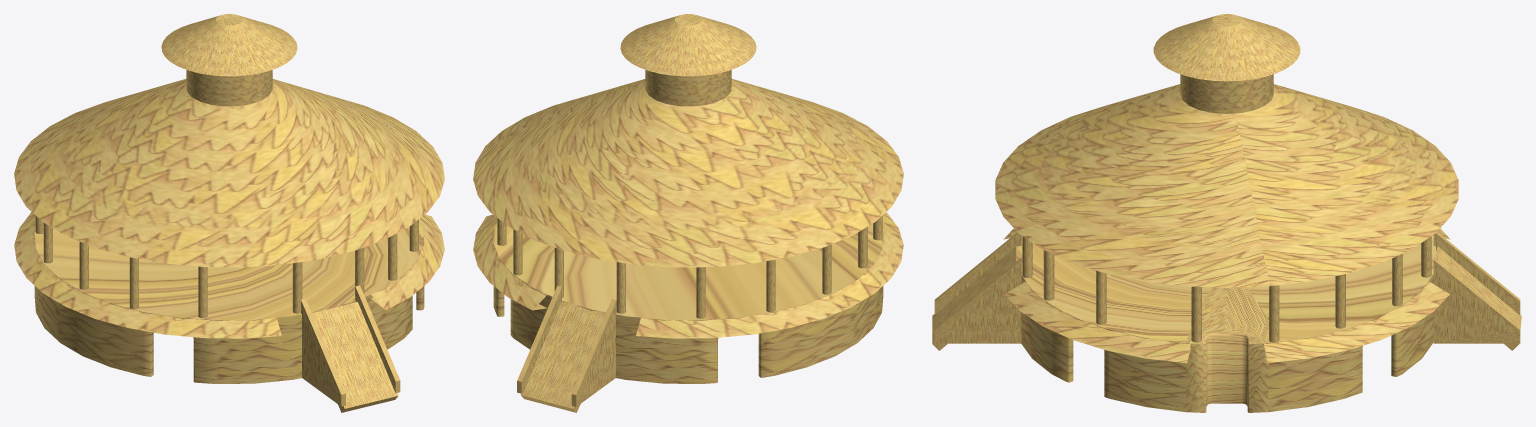
File: RoyalGazebo.glb
3 views of the same model, side by side, from view 1: azimuth 30°, elevation 25°; view 2: azimuth 150°, elevation 25°; view 3: azimuth 270°, elevation 25° (orthographic). The views are drawn at different scales.
Visible parts, largest first — view 1: SM_GazeboRoof4; view 2: SM_GazeboRoof4; view 3: SM_GazeboRoof4.
Boxes of the visible parts, left/top/right/bottom form: SM_GazeboRoof4: left=14, top=14, right=444, bottom=412; SM_GazeboRoof4: left=473, top=14, right=903, bottom=412; SM_GazeboRoof4: left=932, top=14, right=1521, bottom=412.
Size of the model in its own units: 4.78 by 3.56 by 6.06.
Materials: 1 (1 with a texture image).
